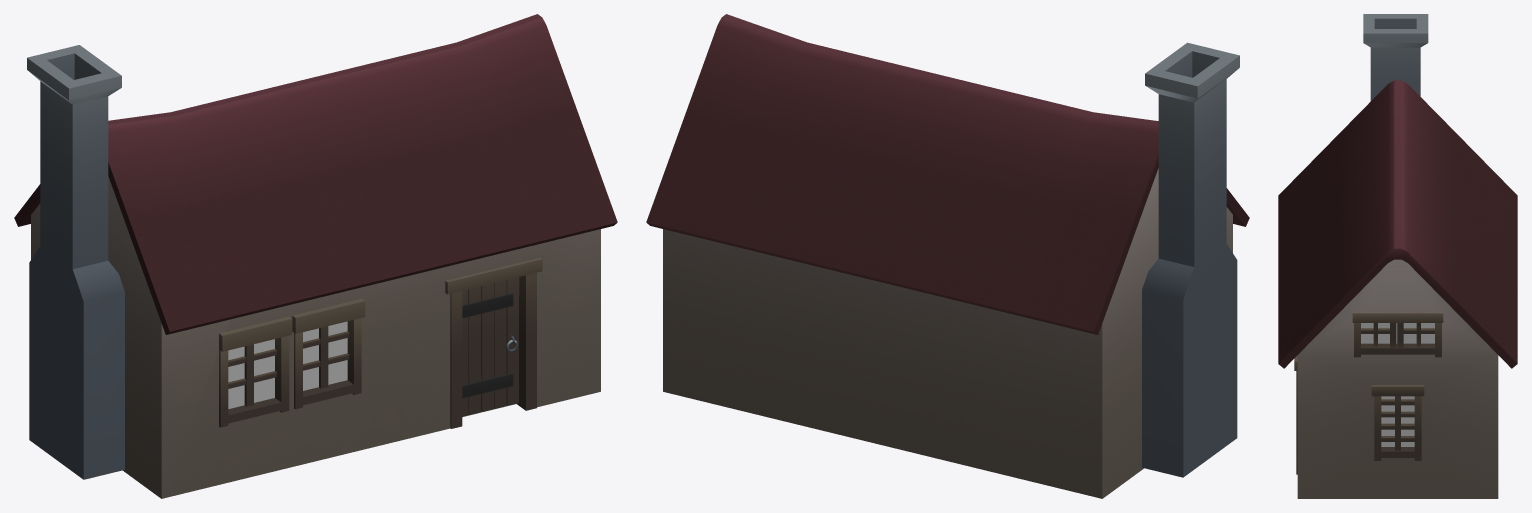
Rendered from House 1.fbx.
3 renders of one model, left to right at view 1: azimuth 30°, elevation 25°; view 2: azimuth 150°, elevation 25°; view 3: azimuth 270°, elevation 25°, orthographic. The views are drawn at different scales.
Parts seen in each view (by area): view 1: House; view 2: House; view 3: House.
Boxes of the visible parts, x1=… form: House: x1=14, y1=14, x2=617, y2=498; House: x1=646, y1=14, x2=1249, y2=498; House: x1=1278, y1=14, x2=1517, y2=498.
Size of the model in its own units: 10.93 by 8.28 by 5.96.
